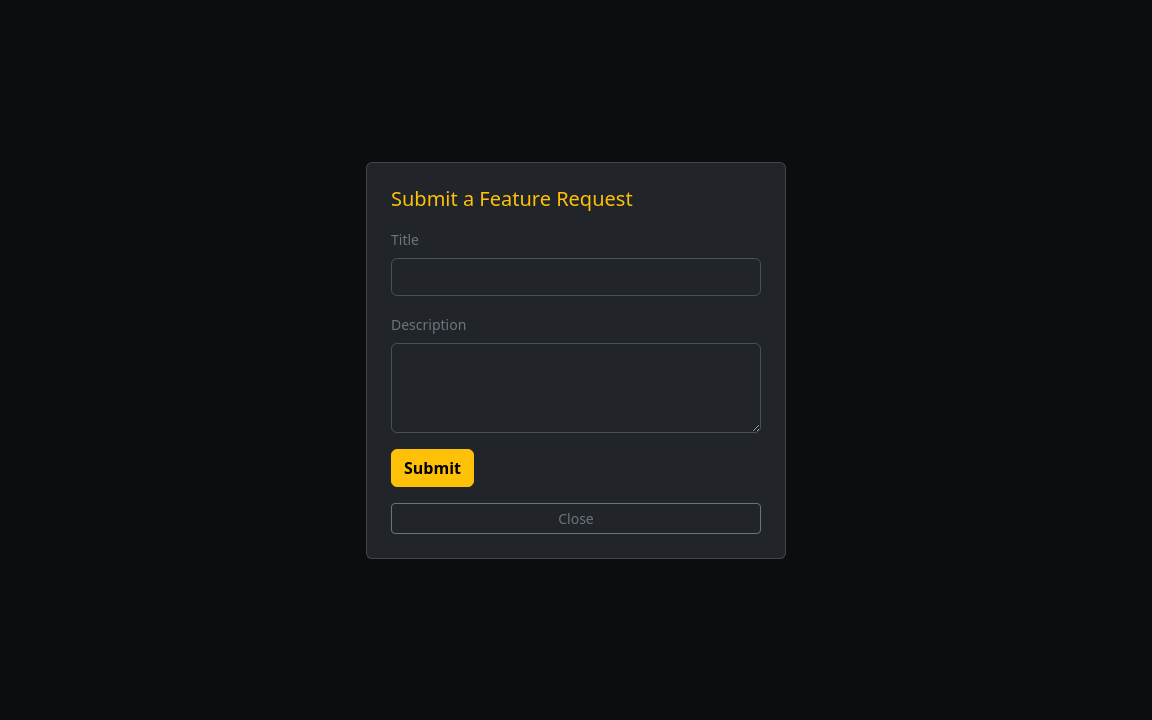
Test case: RequestForm › shows success message after form is submitted
Type "Dark mode" into the field labelled "Title" at (576, 276), box [391,258,761,296]
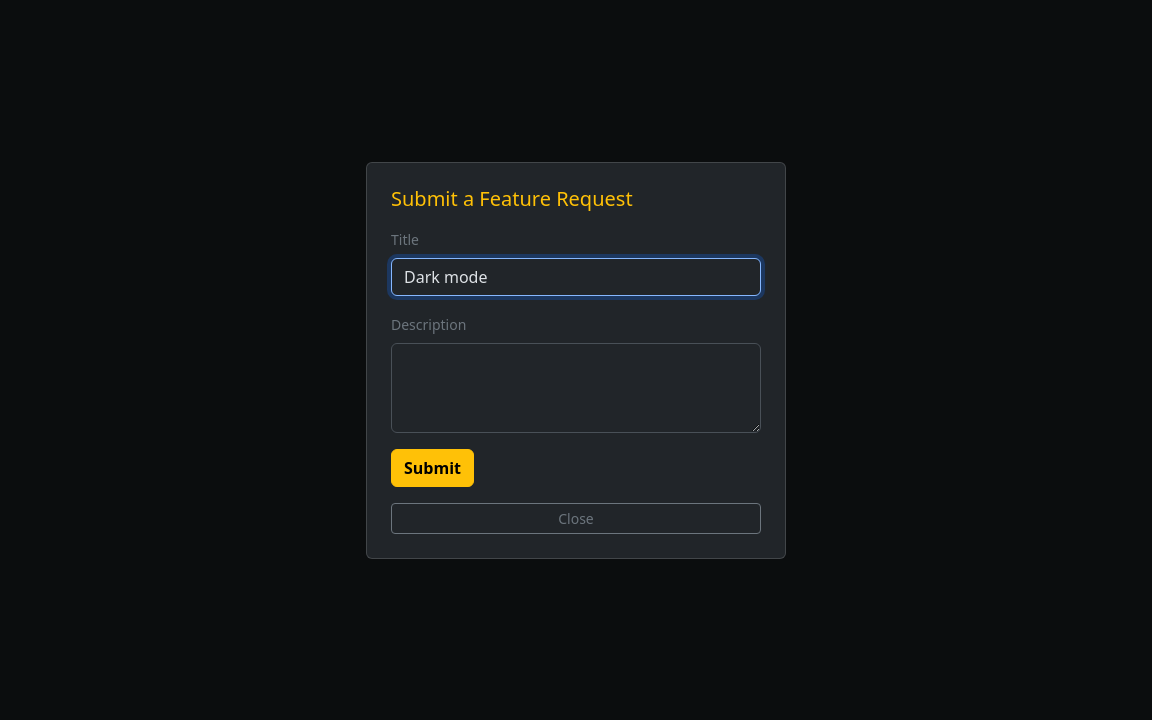
Type "Please add it" into the text box labelled "Description" at (576, 388), box [391,342,761,432]
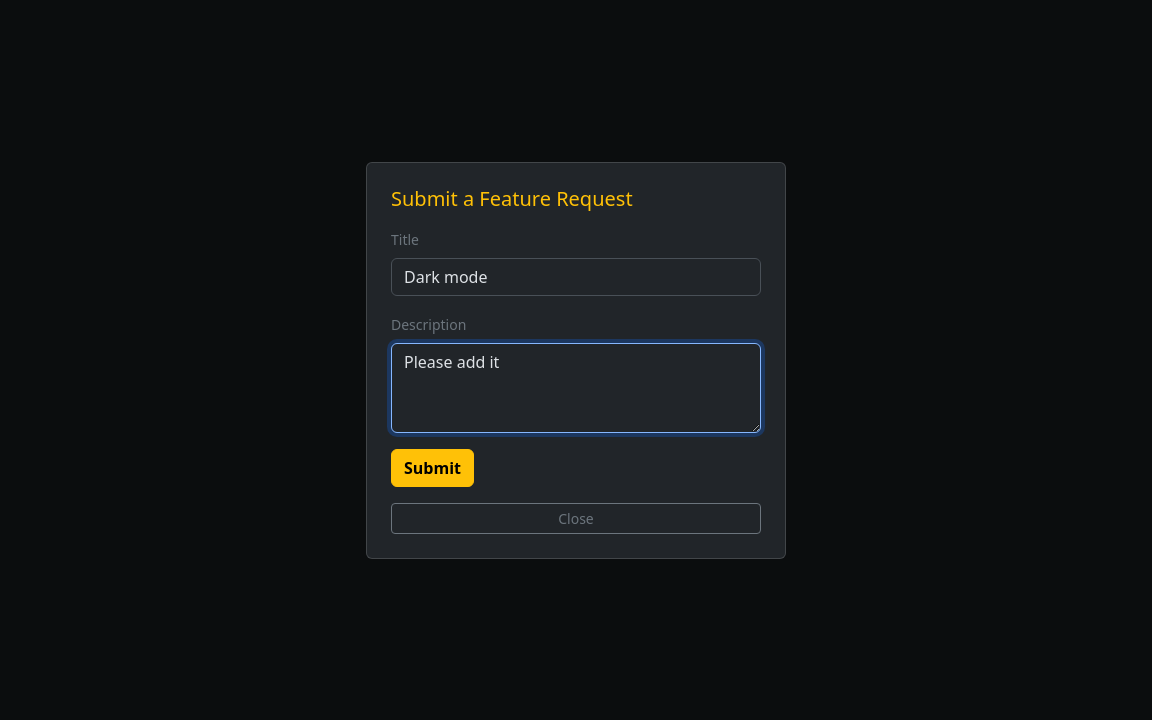
Click the button "Submit" at (432, 468), box [391,448,474,486]
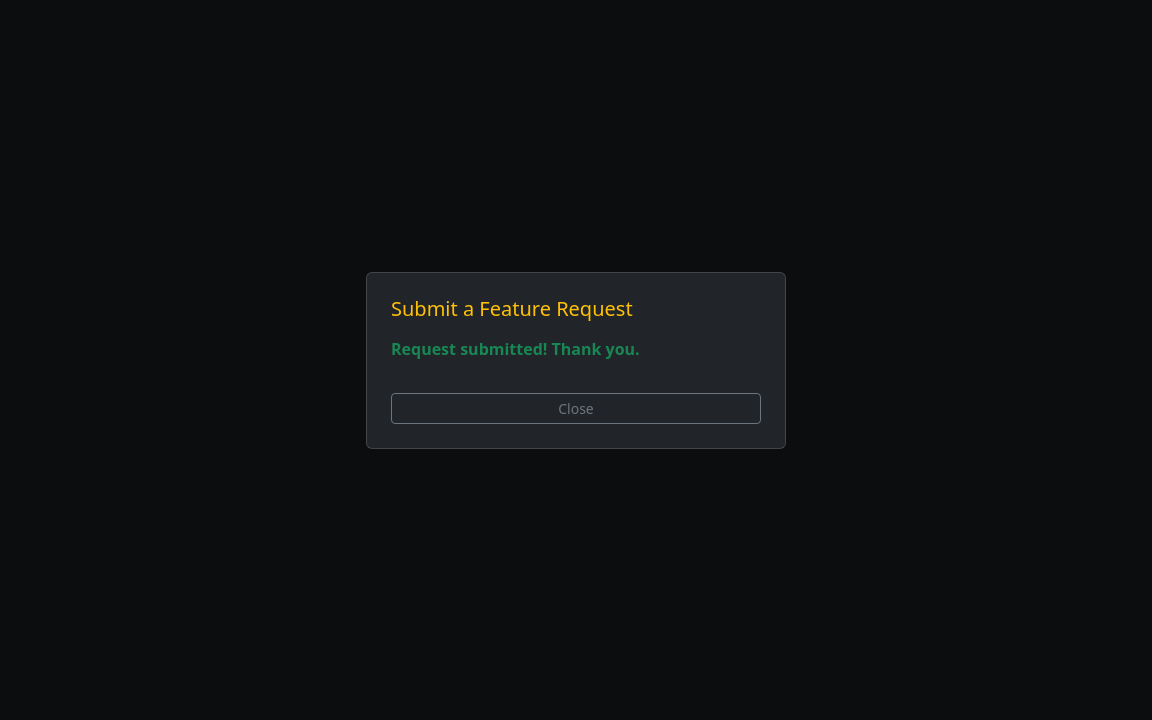
Check: the text "Request submitted! Thank you." is shown, box [391,338,640,360]
